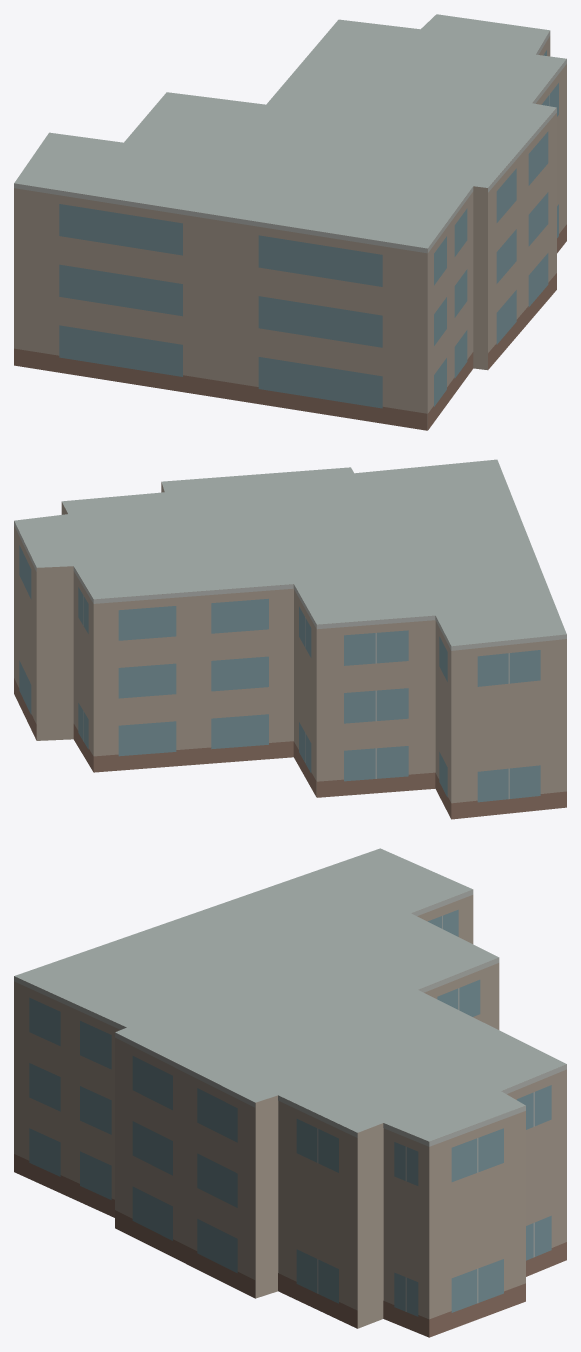
File: survey-upis-33023815.glb
The picture shows the model from 3 angles, top to bottom: view 1: azimuth 30°, elevation 25°; view 2: azimuth 150°, elevation 25°; view 3: azimuth 270°, elevation 25°; orthographic projection. The views are drawn at different scales.
Parts seen in each view (by area): view 1: survey-upis-33023815.tmp; view 2: survey-upis-33023815.tmp; view 3: survey-upis-33023815.tmp.
Part boxes in pixels (box(x1,y1,x2,y2)): survey-upis-33023815.tmp: box(14, 14, 566, 430); survey-upis-33023815.tmp: box(14, 459, 566, 819); survey-upis-33023815.tmp: box(14, 848, 566, 1337).
Size of the model in its own units: 29.38 by 9.15 by 23.4.
